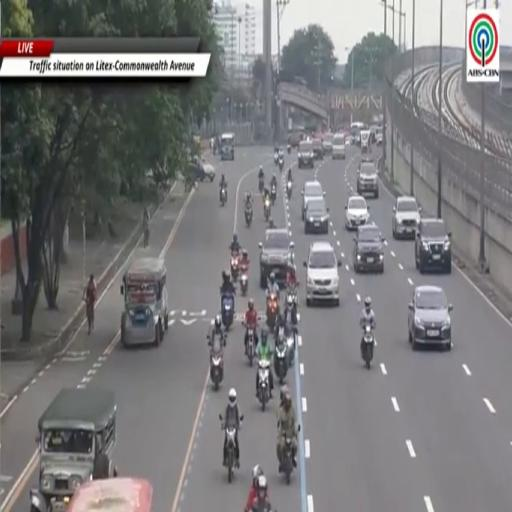car: (408, 285, 452, 349), (304, 242, 341, 306), (259, 229, 294, 289), (415, 218, 452, 274), (353, 223, 384, 273), (392, 197, 421, 238), (301, 181, 325, 220), (304, 198, 329, 233), (345, 196, 369, 230), (357, 160, 378, 198), (190, 156, 215, 182), (298, 140, 314, 168), (332, 133, 346, 160), (202, 159, 215, 182), (312, 138, 323, 159), (360, 131, 370, 154), (322, 134, 333, 154), (375, 127, 383, 147), (345, 136, 353, 146)
jeepney: (30, 388, 116, 511), (120, 258, 168, 346), (68, 478, 152, 511), (221, 134, 235, 159)
motorcycle: (219, 414, 236, 483), (274, 339, 288, 385), (280, 438, 293, 484), (258, 360, 269, 411), (361, 326, 374, 369), (210, 351, 223, 391), (222, 294, 234, 330), (286, 327, 296, 366), (267, 294, 278, 329), (246, 327, 255, 366), (287, 285, 298, 313), (230, 252, 239, 282), (240, 264, 248, 296), (245, 205, 253, 227), (264, 198, 270, 221), (221, 188, 227, 206), (271, 184, 276, 205), (287, 181, 292, 199), (259, 179, 264, 193), (279, 156, 284, 170), (274, 153, 278, 165), (287, 144, 291, 154)
